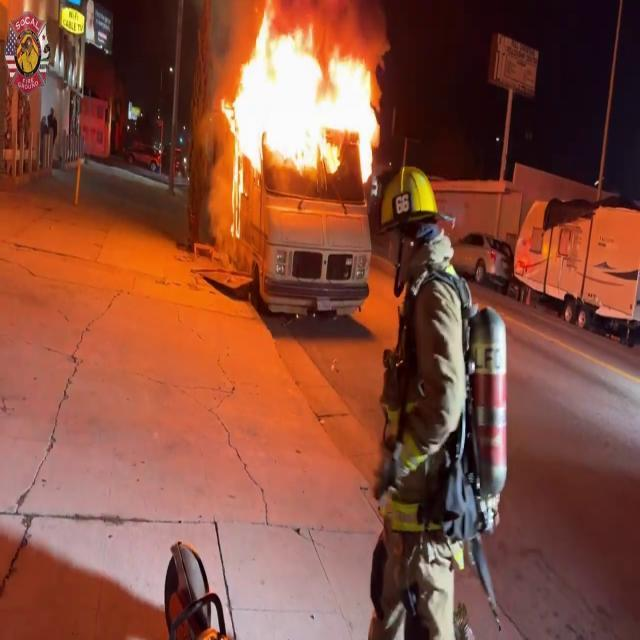Fire: (217, 5, 386, 186)
